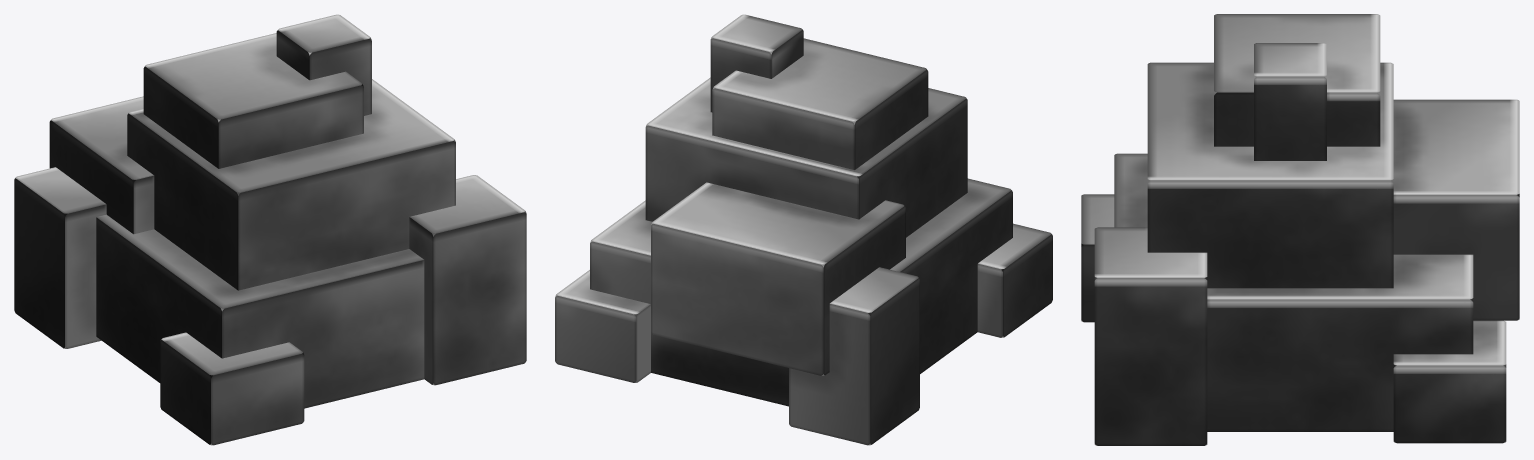
Rendered from Rock_1.fbx.
3 views of the same model, side by side, from view 1: azimuth 30°, elevation 25°; view 2: azimuth 150°, elevation 25°; view 3: azimuth 270°, elevation 25° (orthographic). The views are drawn at different scales.
Visible parts, largest first — view 1: cuboid_1, cuboid, cuboid_2, cuboid_4, cuboid_7, cuboid_6, cuboid_3, cuboid_8; view 2: cuboid_3, cuboid_1, cuboid, cuboid_2, cuboid_7, cuboid_5, cuboid_6, cuboid_8; view 3: cuboid_1, cuboid, cuboid_4, cuboid_3, cuboid_2, cuboid_5, cuboid_8, cuboid_6.
Boxes of the visible parts, <box> form: cuboid_1: <box>127,79,455,290</box>; cuboid: <box>64,213,424,408</box>; cuboid_2: <box>143,33,363,195</box>; cuboid_4: <box>409,175,526,385</box>; cuboid_7: <box>14,167,106,348</box>; cuboid_6: <box>160,332,304,445</box>; cuboid_3: <box>49,96,154,234</box>; cuboid_8: <box>276,14,371,115</box>; cuboid_3: <box>651,182,905,375</box>; cuboid_1: <box>645,77,967,237</box>; cuboid: <box>590,178,1012,406</box>; cuboid_2: <box>712,38,928,178</box>; cuboid_7: <box>789,267,919,445</box>; cuboid_5: <box>555,270,650,382</box>; cuboid_6: <box>977,223,1052,337</box>; cuboid_8: <box>710,14,803,112</box>; cuboid_1: <box>1147,62,1393,288</box>; cuboid: <box>1114,153,1473,431</box>; cuboid_4: <box>1094,227,1207,445</box>; cuboid_3: <box>1390,99,1519,320</box>; cuboid_2: <box>1214,14,1380,146</box>; cuboid_5: <box>1393,320,1506,443</box>; cuboid_8: <box>1254,43,1326,160</box>; cuboid_6: <box>1081,194,1114,322</box>.
Bounding box in the file's own units: 394 × 343 × 412.
Materials: 1 (1 with a texture image).
